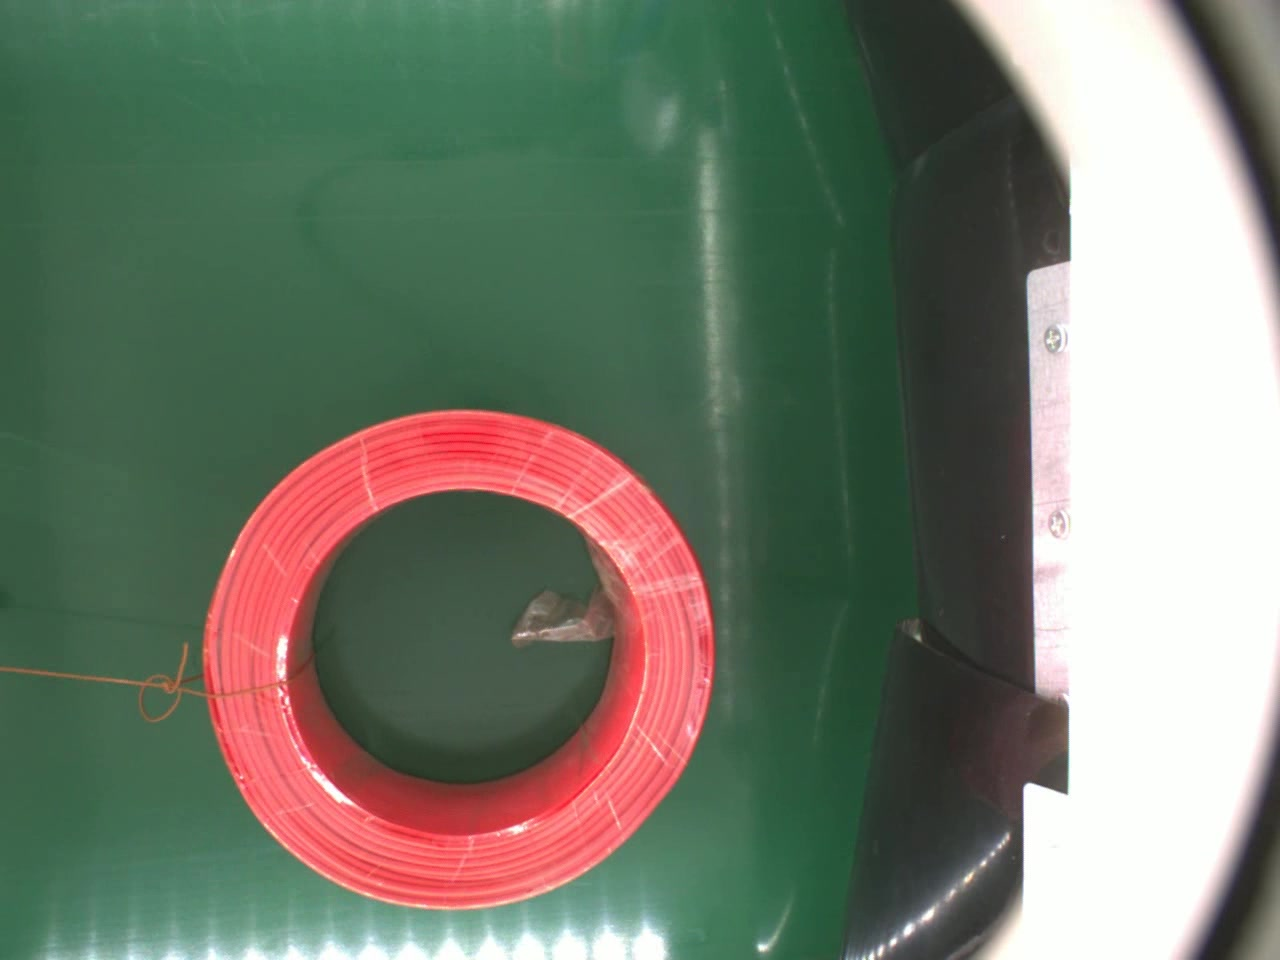red: (201, 403, 716, 912)
